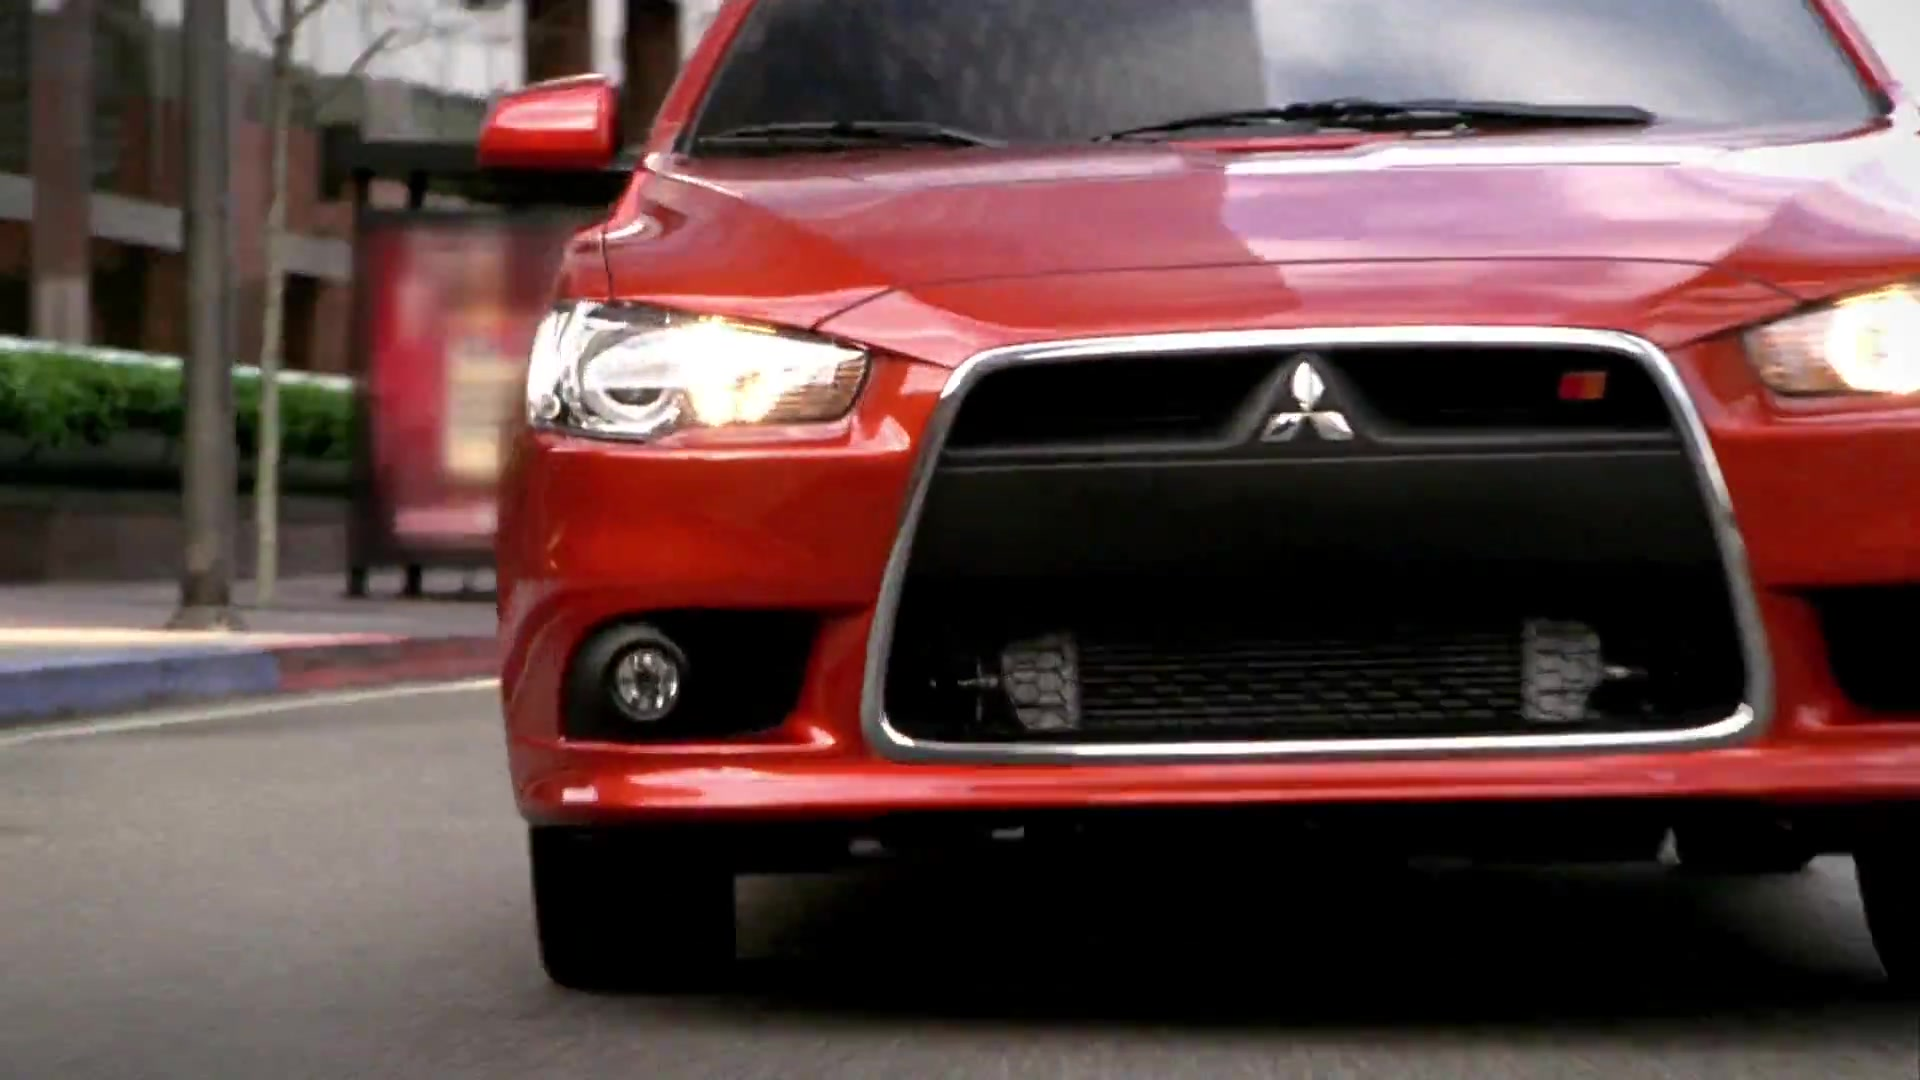car: (475, 5, 1920, 1019)
